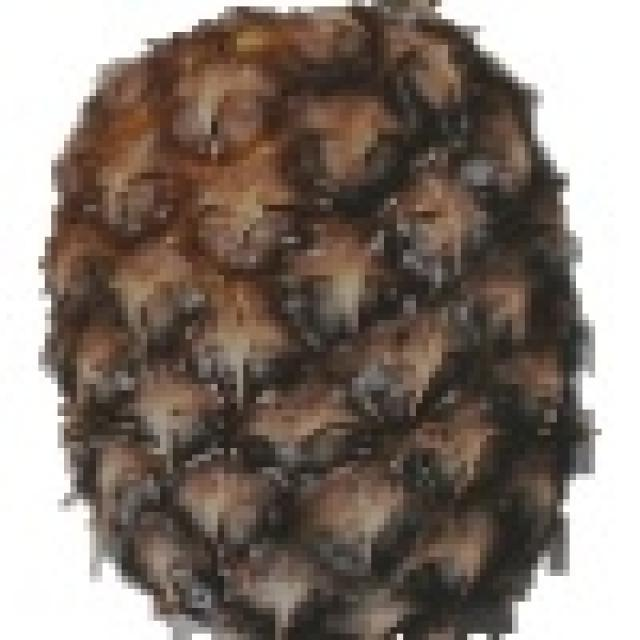pineapple: (45, 0, 582, 640)
